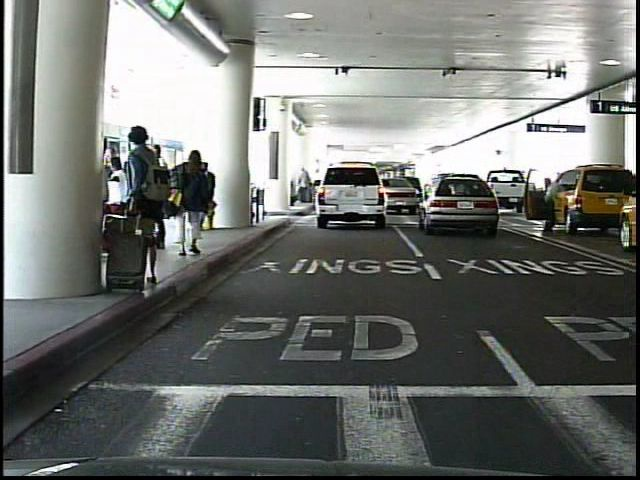person: (115, 123, 166, 287), (173, 146, 213, 260), (145, 144, 174, 242), (177, 158, 205, 234), (538, 176, 572, 235)
